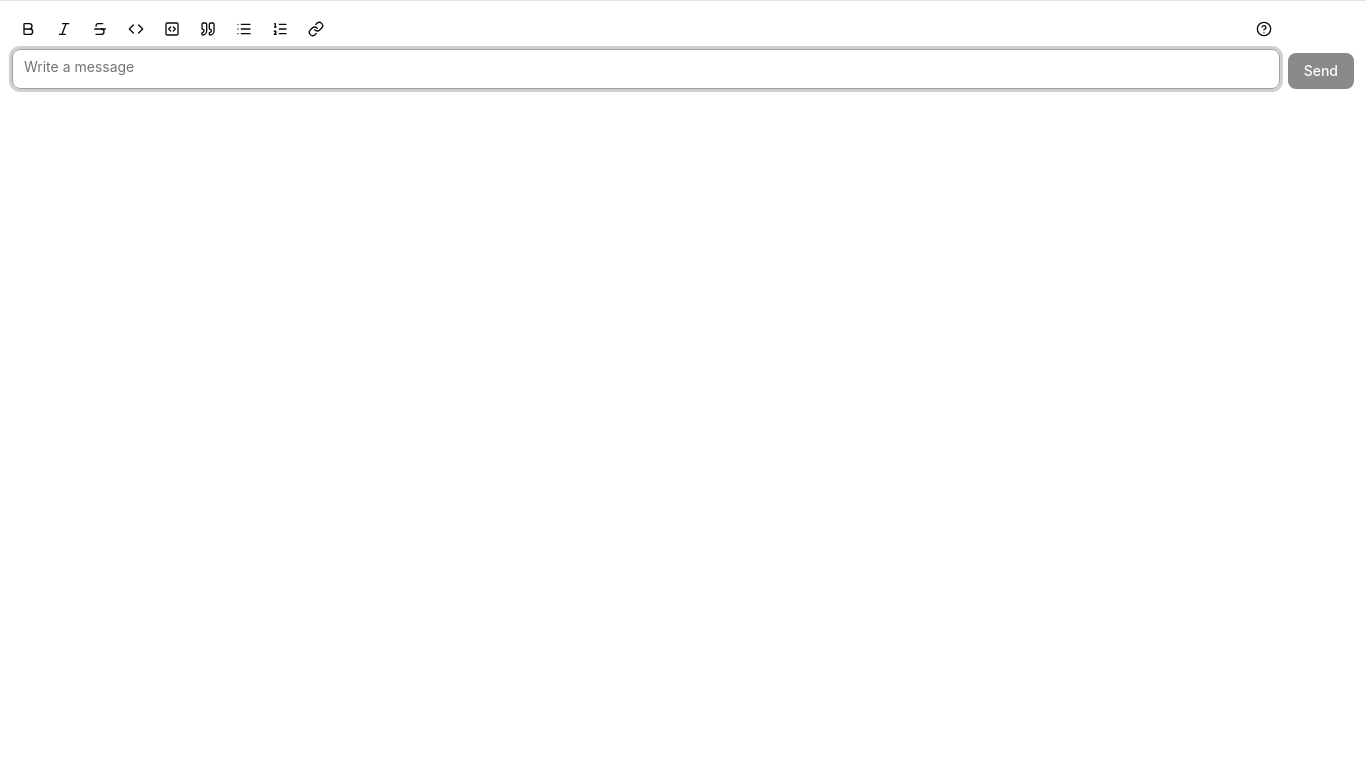
Scenario: refuses an unparsable URL
In the field named "Message": x=646, y=69 12,49 -> 1280,89, type "site"
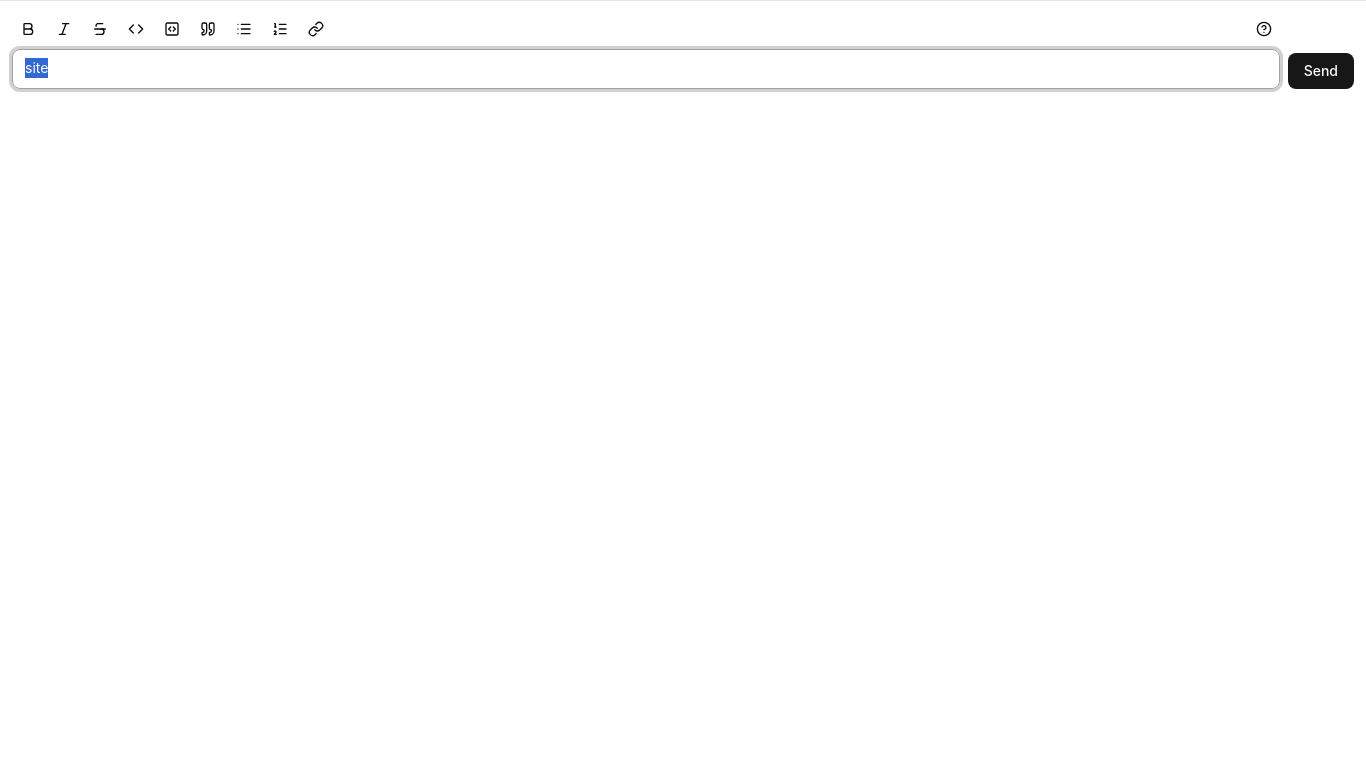
Click the button named "Link": x=316, y=29 300,13 -> 332,45
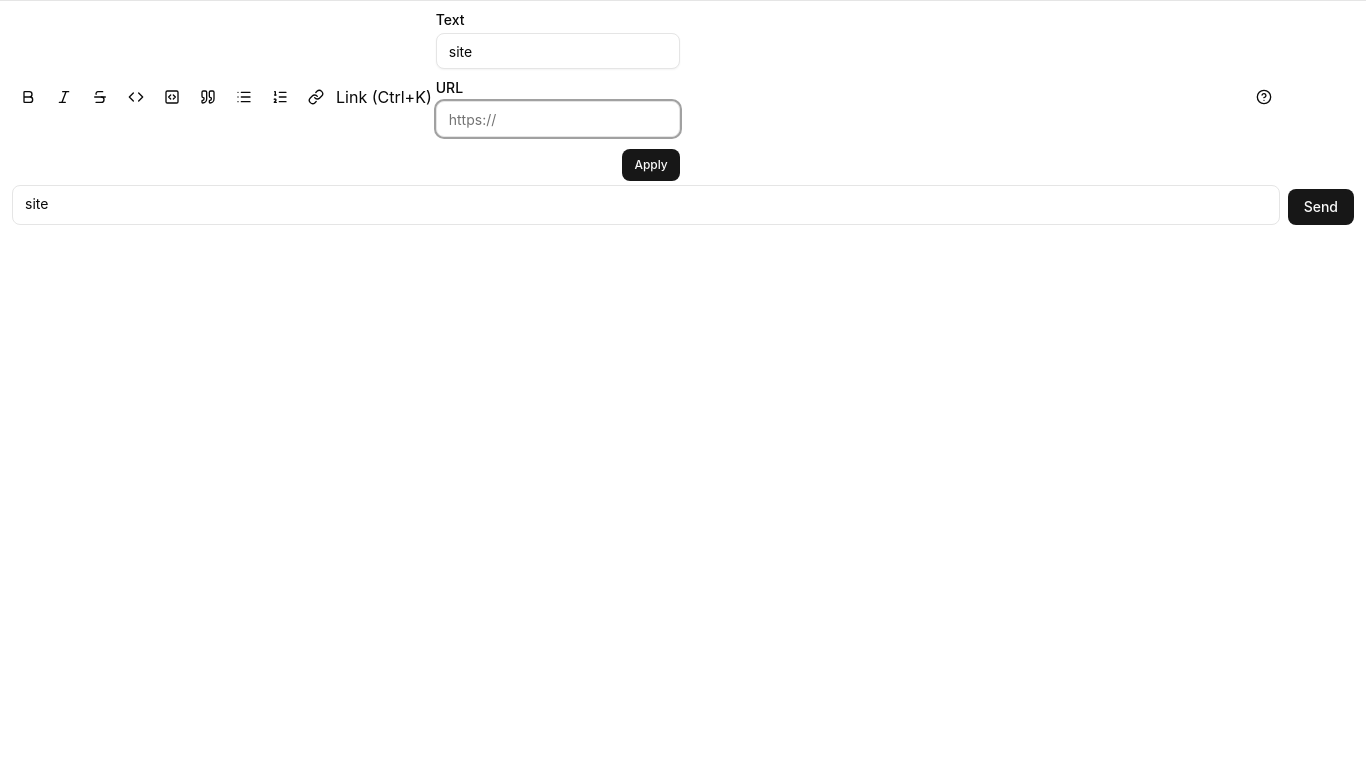
In the field labelled "URL": x=558, y=119 436,101 -> 680,137, type "http://"
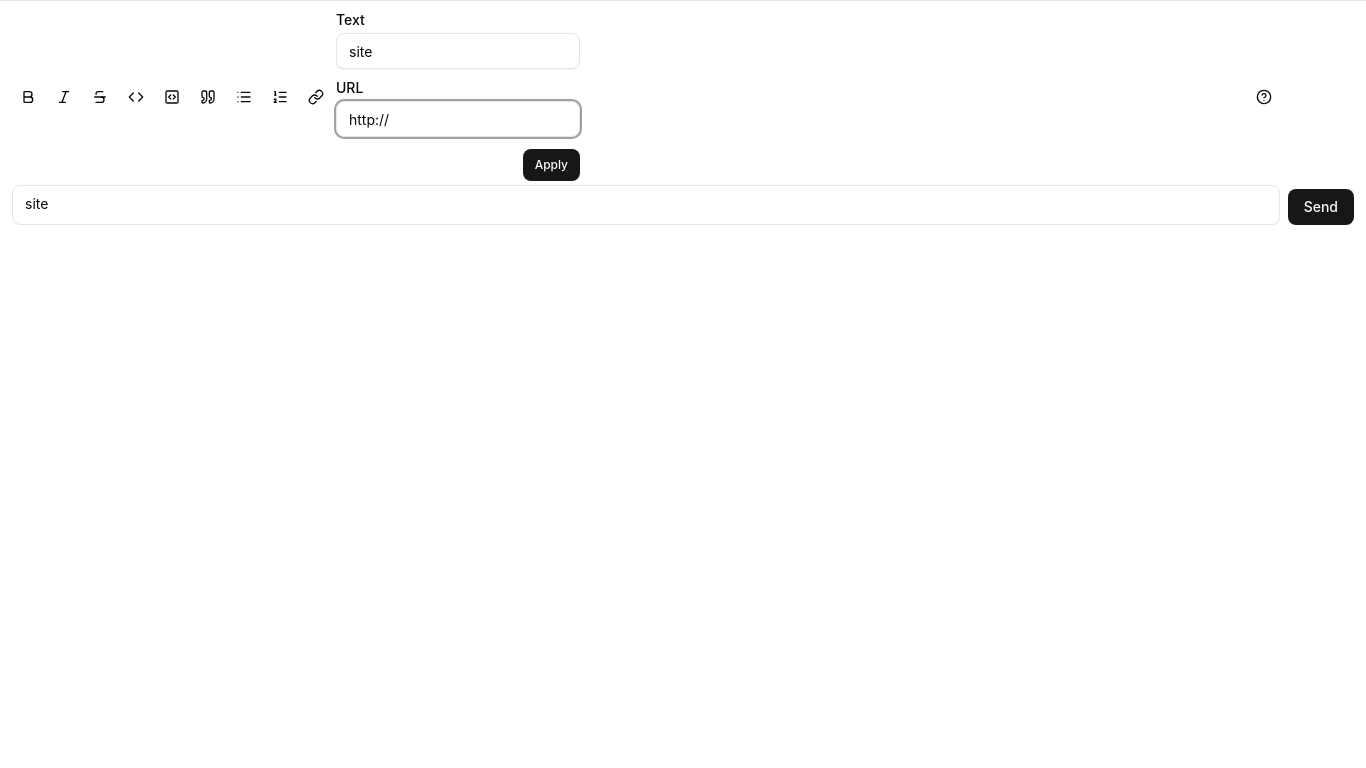
Click the button "Apply": x=551, y=165 523,149 -> 580,181
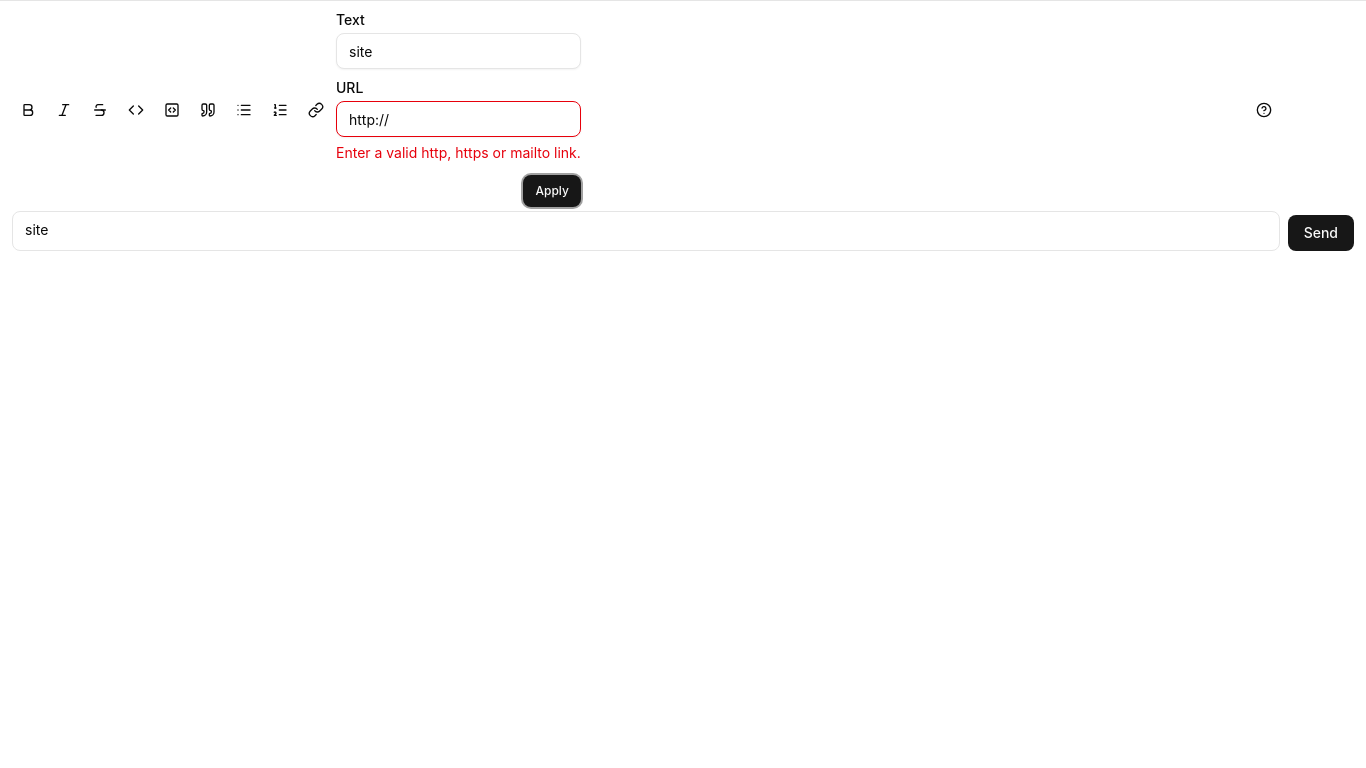
Result: the message "Enter a valid http, https or mailto link." is shown at 336,143 -> 581,163
